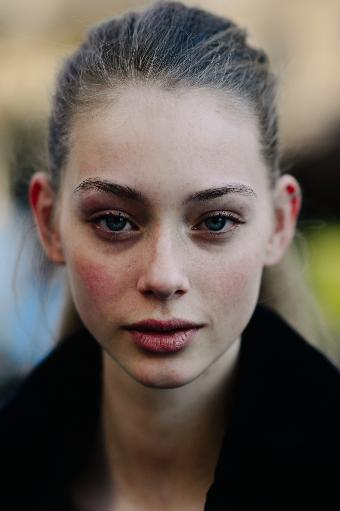left_eye: (191, 210, 247, 242)
left_lip_corner: (194, 318, 212, 341)
right_eye: (88, 211, 141, 241)
right_lip_corner: (117, 320, 135, 341)
